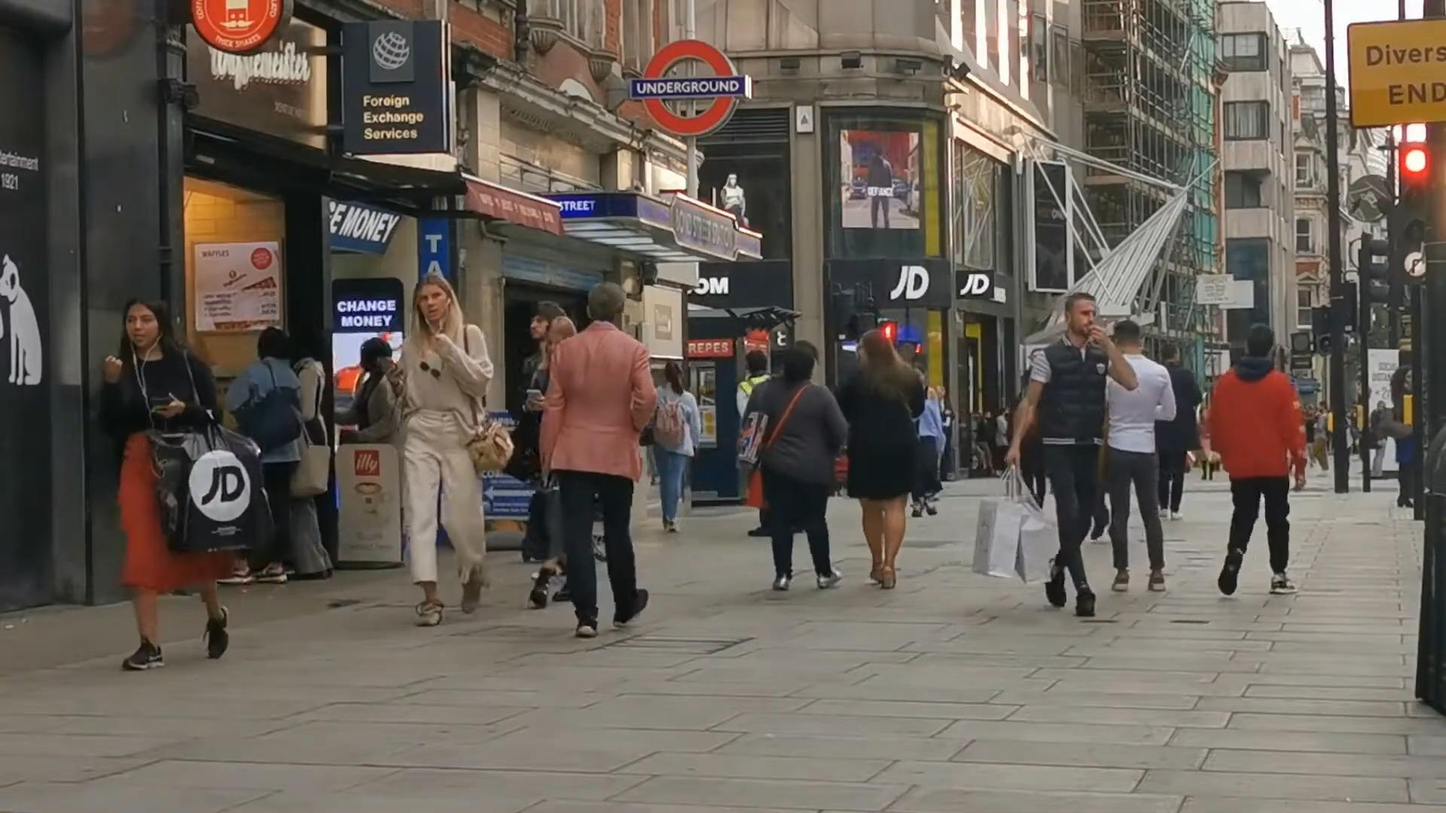no-helmet: (121, 297, 174, 352), (411, 271, 462, 325), (858, 329, 903, 377), (1065, 292, 1096, 337), (783, 347, 814, 382), (1244, 324, 1272, 357), (1114, 320, 1140, 354), (665, 361, 683, 395), (745, 350, 768, 374)
